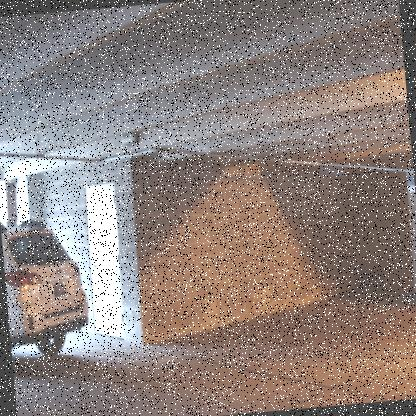Car: (0, 214, 96, 362)
